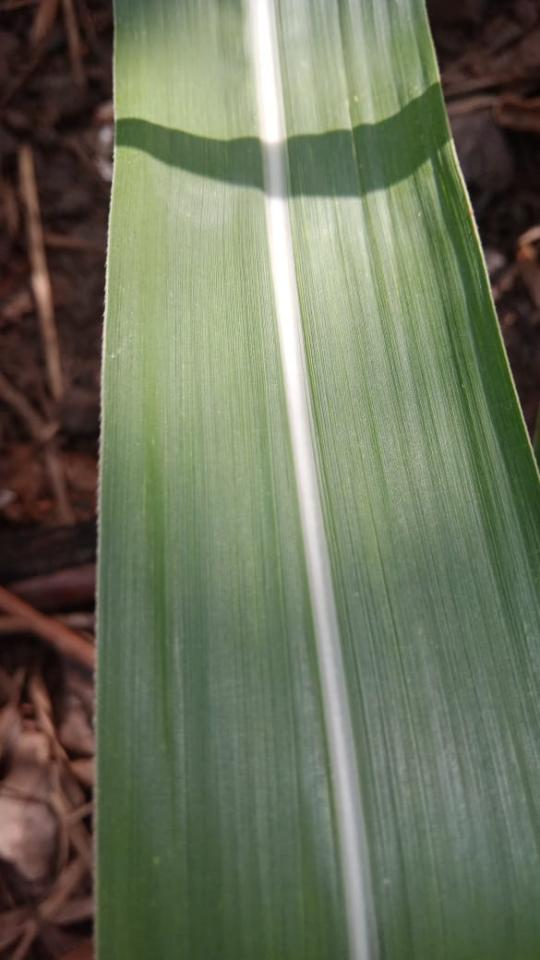Healthy: (93, 0, 539, 959)
